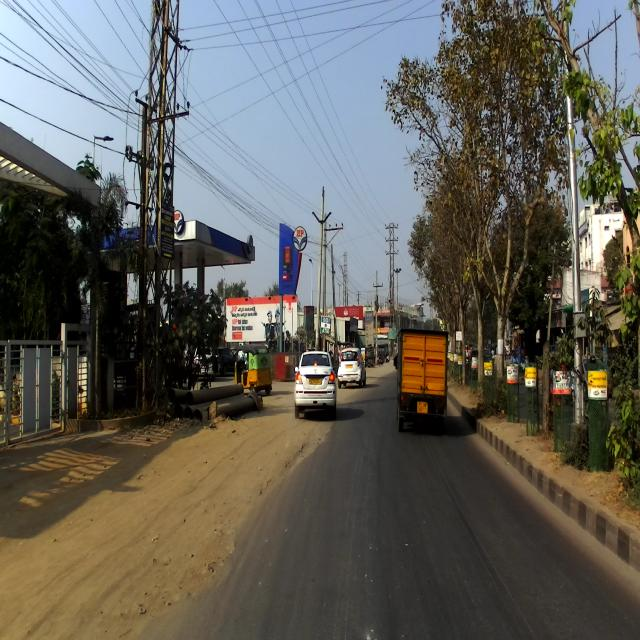car ahead at: (285, 343, 342, 420)
truck ahead at: (394, 329, 451, 423)
